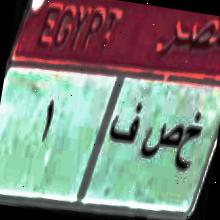1: (35, 89, 63, 155)
faa: (105, 94, 144, 156)
khaa: (174, 108, 209, 180)
saad: (138, 116, 182, 168)
